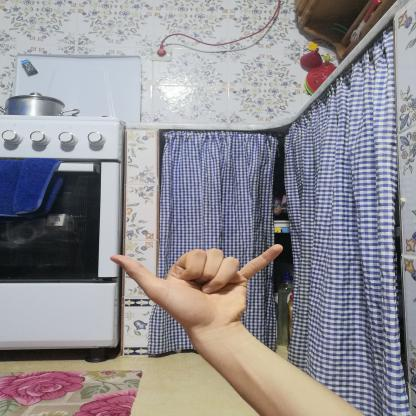YA: (95, 235, 299, 338)
